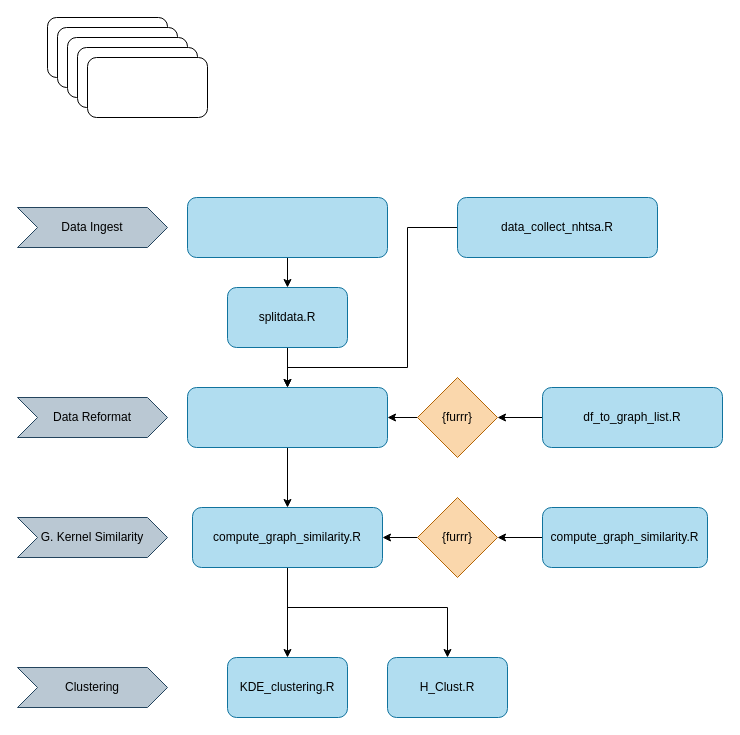
The diagram is 740 pixels wide and 735 high, and some of its shapes have lost their labels. Here are the shapes that lost their labels. From the top down, the centre of each, then its label:
At (x=287, y=227): "data_collect_mentalhealth.R".
At (x=287, y=417): "convert_to_graphs.R".
